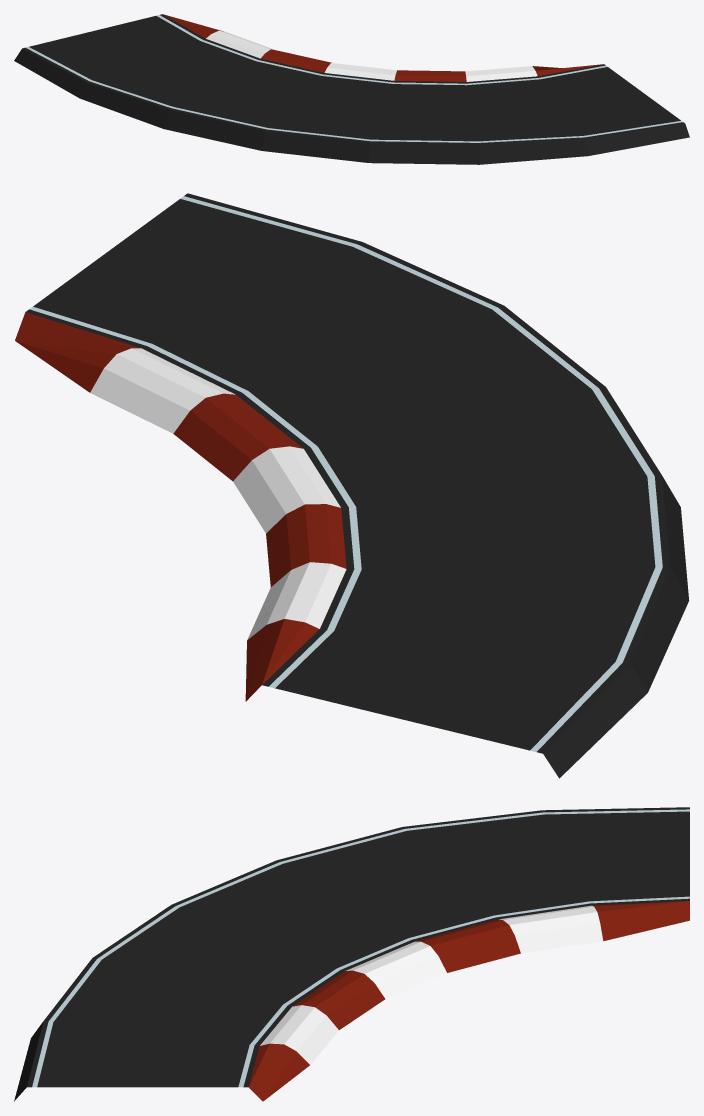
Rendered from AsphaltTurn90.fbx.
3 renders of one model, top to bottom at view 1: azimuth 30°, elevation 25°; view 2: azimuth 150°, elevation 25°; view 3: azimuth 270°, elevation 25°, orthographic. The views are drawn at different scales.
Parts seen in each view (by area): view 1: 90Turn.007; view 2: 90Turn.007; view 3: 90Turn.007.
Boxes of the visible parts, x1,y1,x2,y2 form: 90Turn.007: [14, 14, 689, 164]; 90Turn.007: [15, 193, 689, 778]; 90Turn.007: [14, 807, 689, 1101].
Bounding box in the file's own units: 3060 × 111 × 3060.
Materials: 1 (1 with a texture image).
